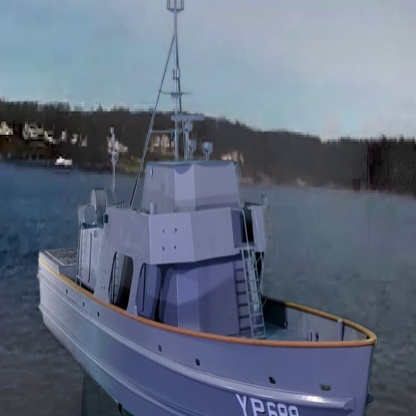YP689: (40, 0, 377, 416)
